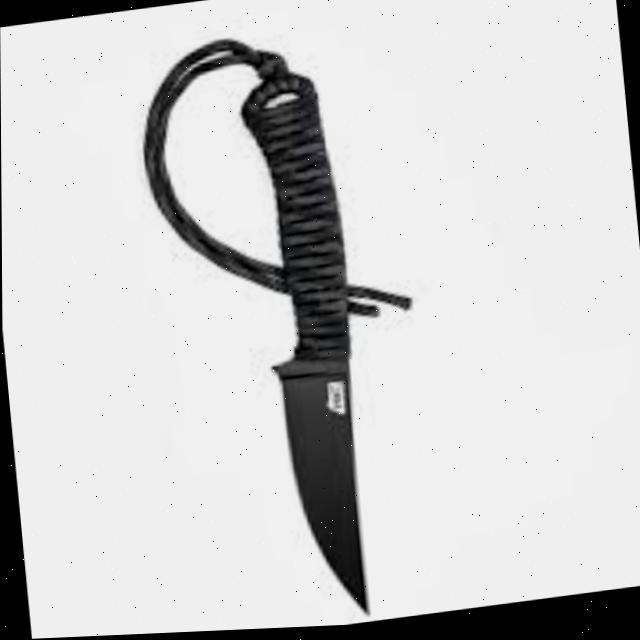Knife: (241, 59, 383, 627)
